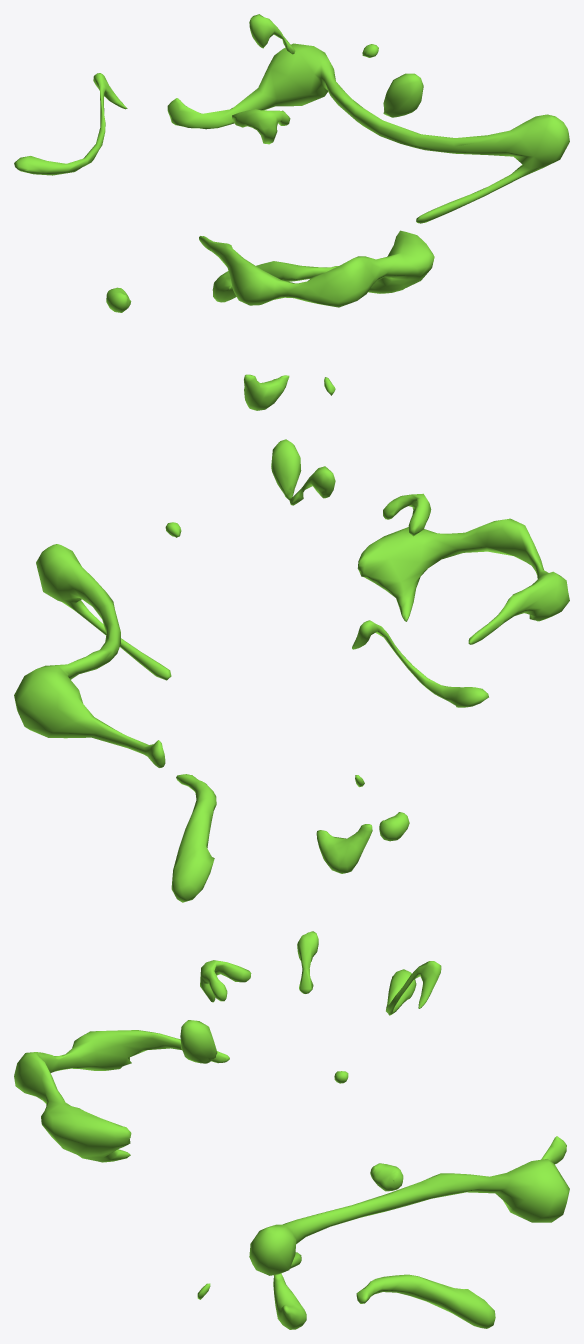
File: p_trashbot_trashball_trashballgoo_pose0.fbx
3 renders of one model, top to bottom at view 1: azimuth 30°, elevation 25°; view 2: azimuth 150°, elevation 25°; view 3: azimuth 270°, elevation 25°, orthographic. The views are drawn at different scales.
Parts seen in each view (by area): view 1: p_trashball_goo_pose0; view 2: p_trashball_goo_pose0; view 3: p_trashball_goo_pose0.
Part boxes in pixels (<box>): p_trashball_goo_pose0: <box>14,14,569,410</box>; p_trashball_goo_pose0: <box>14,439,569,902</box>; p_trashball_goo_pose0: <box>14,931,569,1329</box>.
Bounding box in the file's own units: 24.89 × 18.82 × 23.73.
